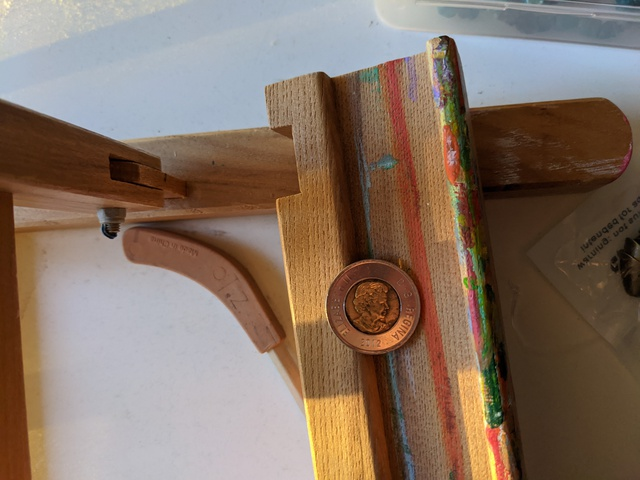twonie: (325, 256, 422, 358)
